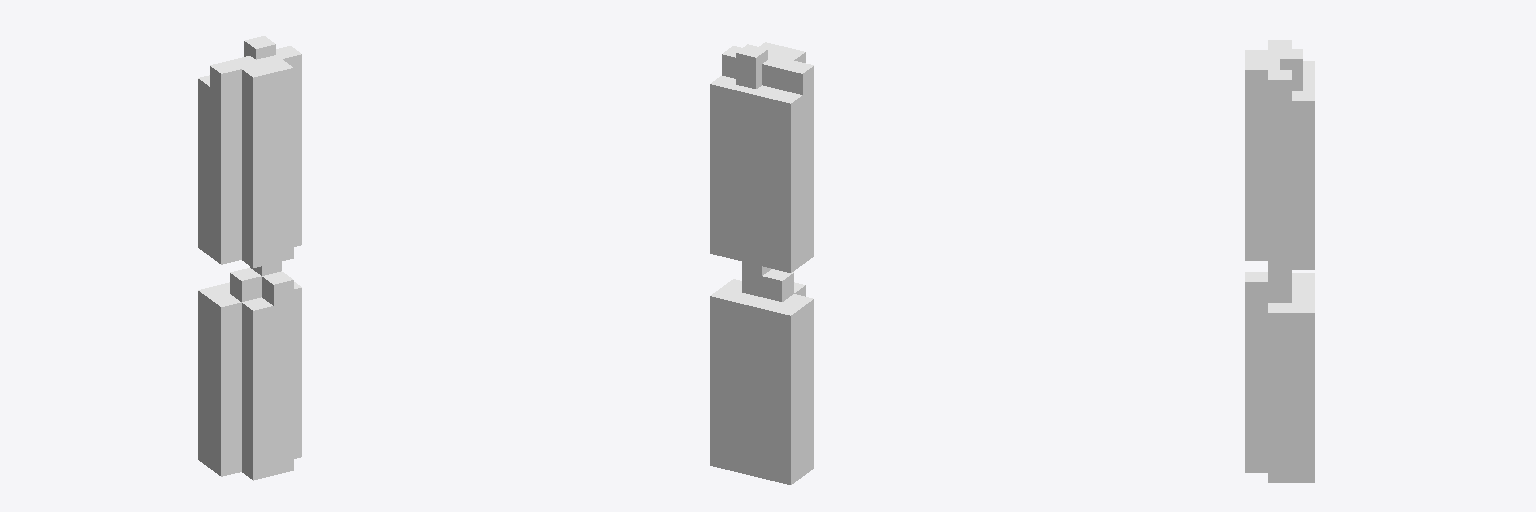
Rendered from LLeg.obj.
3 views of the same model, side by side, from view 1: azimuth 30°, elevation 25°; view 2: azimuth 150°, elevation 25°; view 3: azimuth 270°, elevation 25° (orthographic).
Parts seen in each view (by area): view 1: object 1; view 2: object 1; view 3: object 1.
Part boxes in pixels (bbox=[...]): object 1: bbox=[198, 36, 301, 480]; object 1: bbox=[710, 42, 813, 484]; object 1: bbox=[1245, 40, 1314, 482].
Bounding box in the file's own units: 0.8 × 3.9 × 0.6.